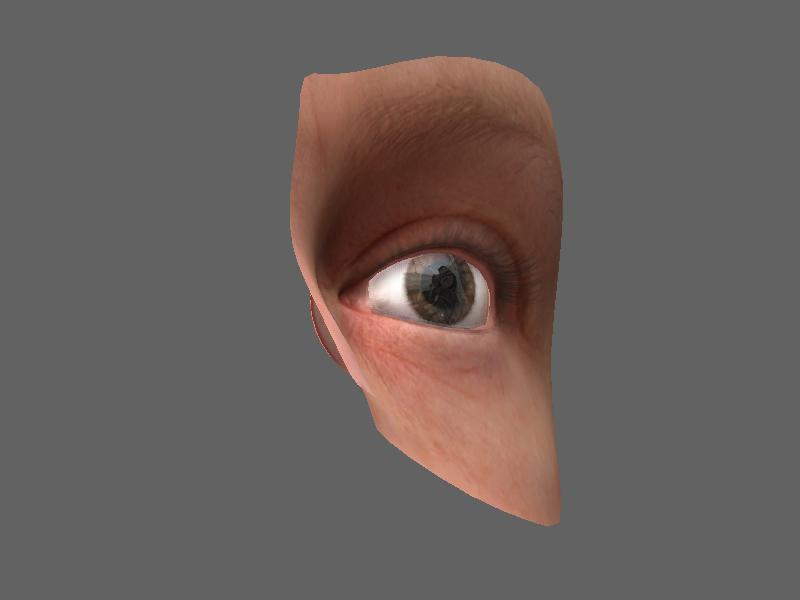iris: (405, 251, 476, 327)
